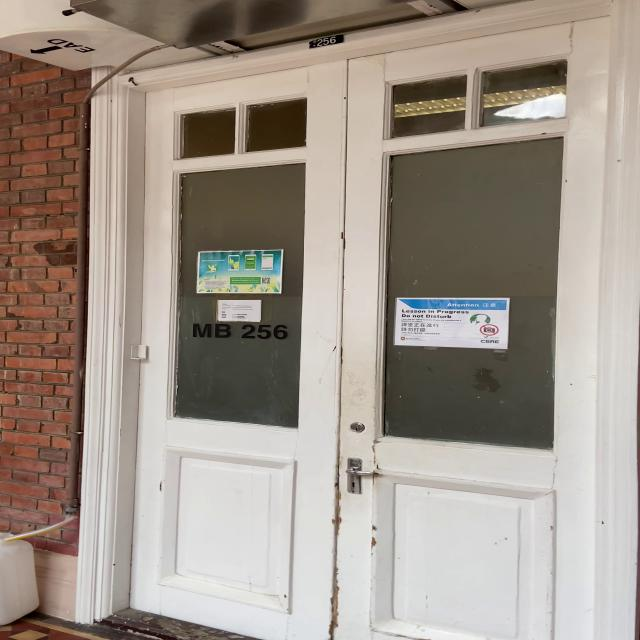room256: (304, 35, 346, 50)
room256Window: (189, 322, 293, 342)
